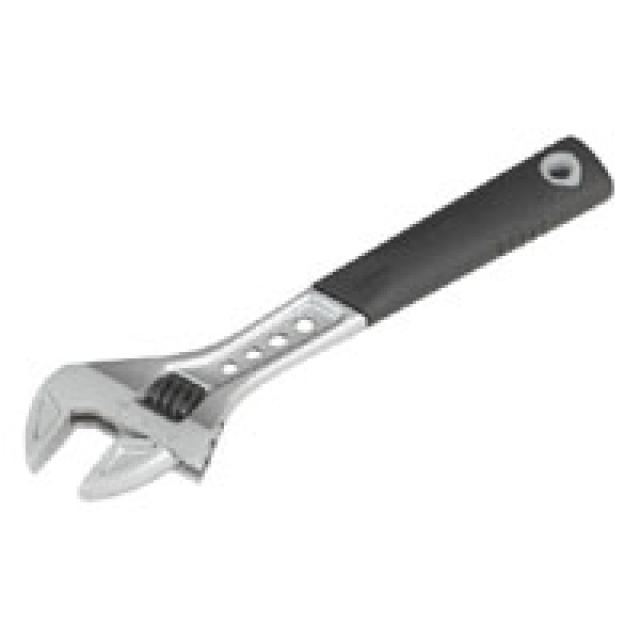wrench: (0, 116, 640, 536)
